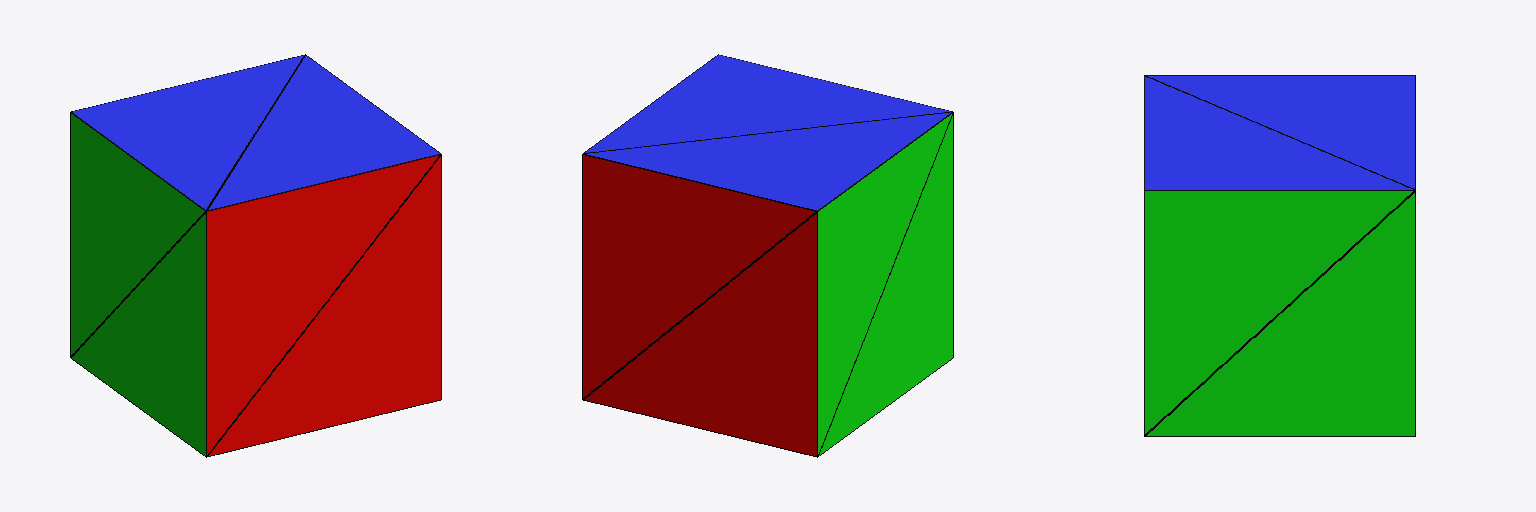
3 renders of one model, left to right at view 1: azimuth 30°, elevation 25°; view 2: azimuth 150°, elevation 25°; view 3: azimuth 270°, elevation 25°, orthographic.
Visible parts, largest first — view 1: Cube; view 2: Cube; view 3: Cube.
Boxes of the visible parts, x1,y1,x2,y2 form: Cube: [70, 54, 441, 457]; Cube: [582, 54, 953, 457]; Cube: [1144, 75, 1415, 436].
Bounding box in the file's own units: 1 × 1 × 1.
1 materials, 1 textured.